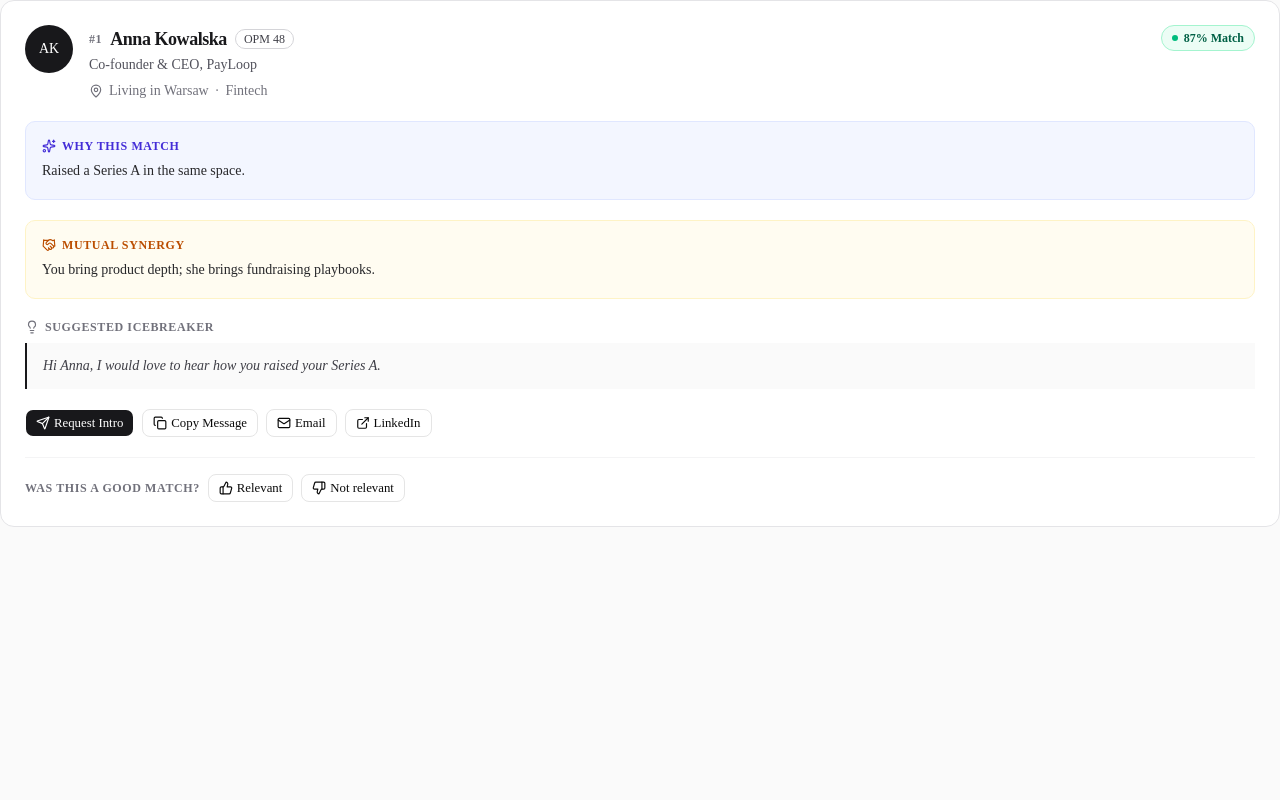
Test case: MatchCard › feedback › asks for a reason on a thumbs down and sends reason and comment
The image size is (1280, 800).
Click the button "Not relevant": (353, 488) [301,474,405,502]
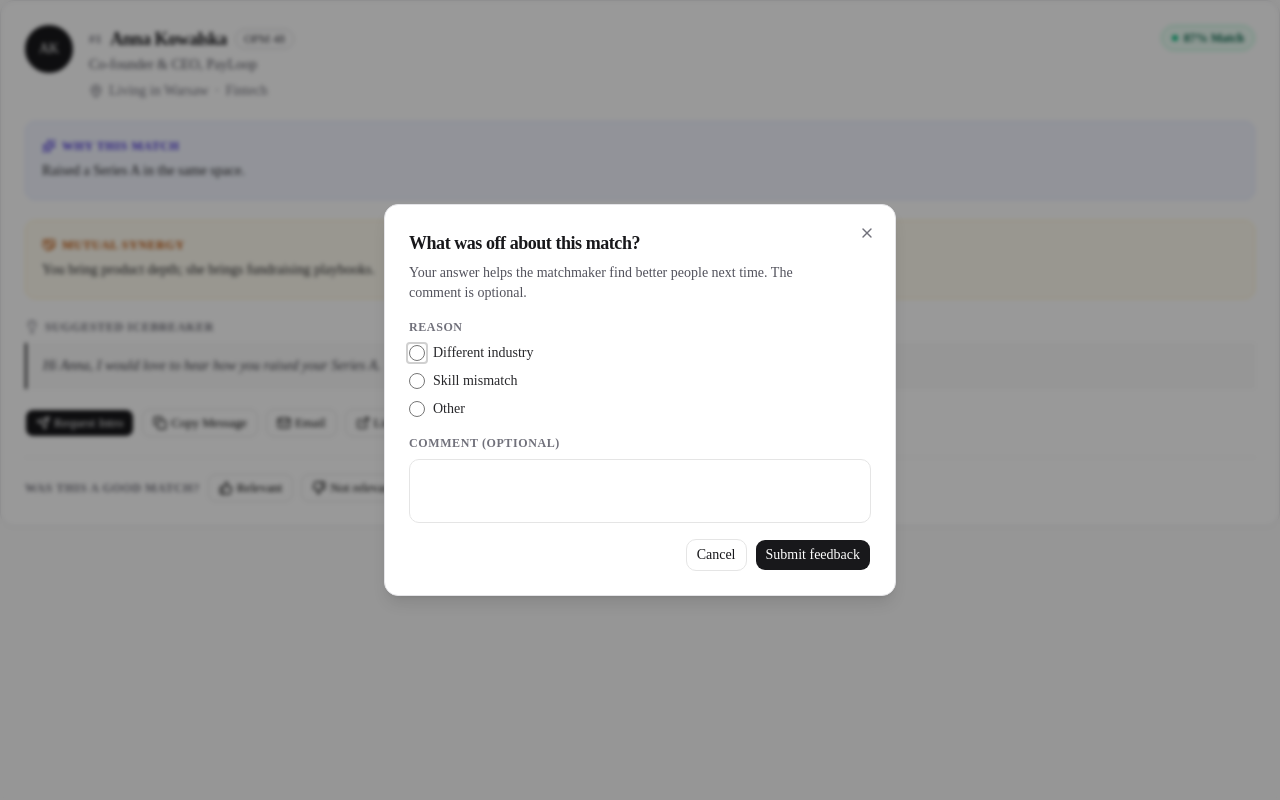
Click the radio button labelled "Skill mismatch": (417, 381) [409,373,425,389]
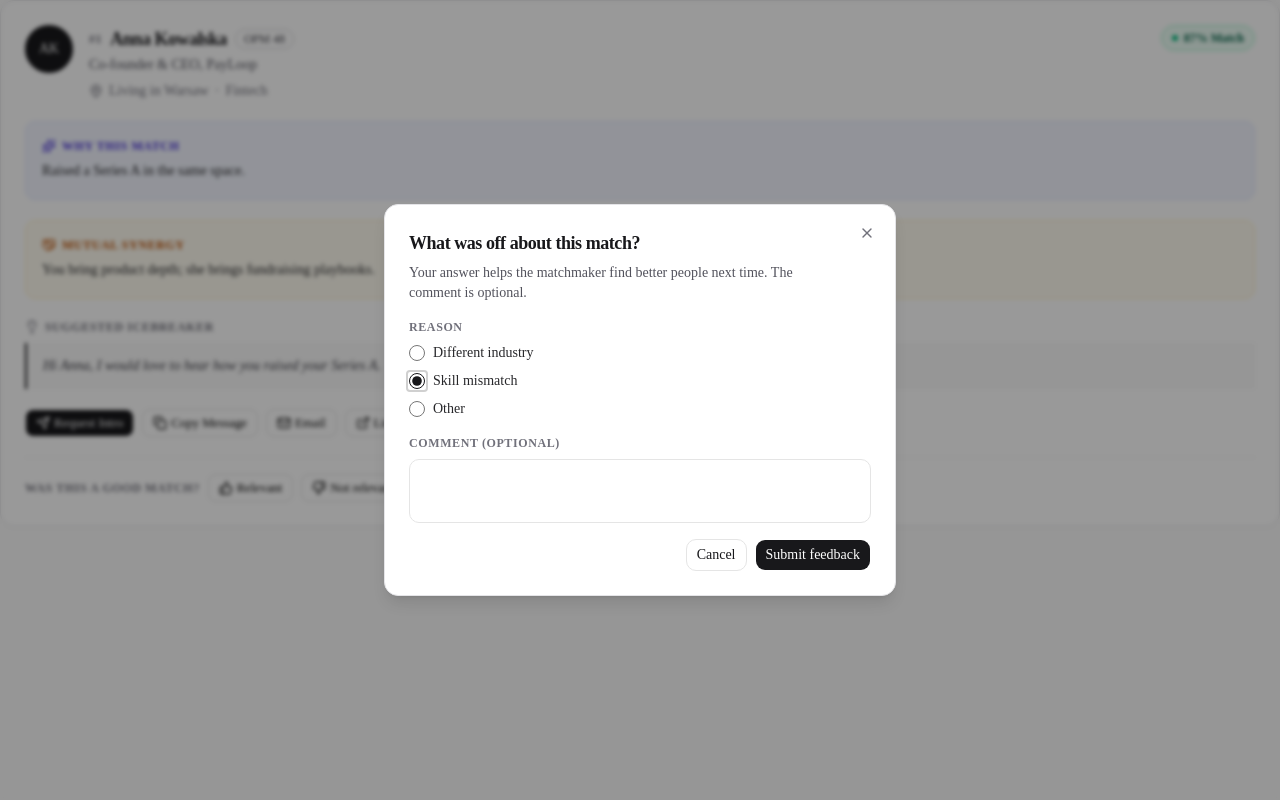
In the text box labelled "Comment (optional)": (640, 491) [409,459,871,523], type "  No fundraising background "
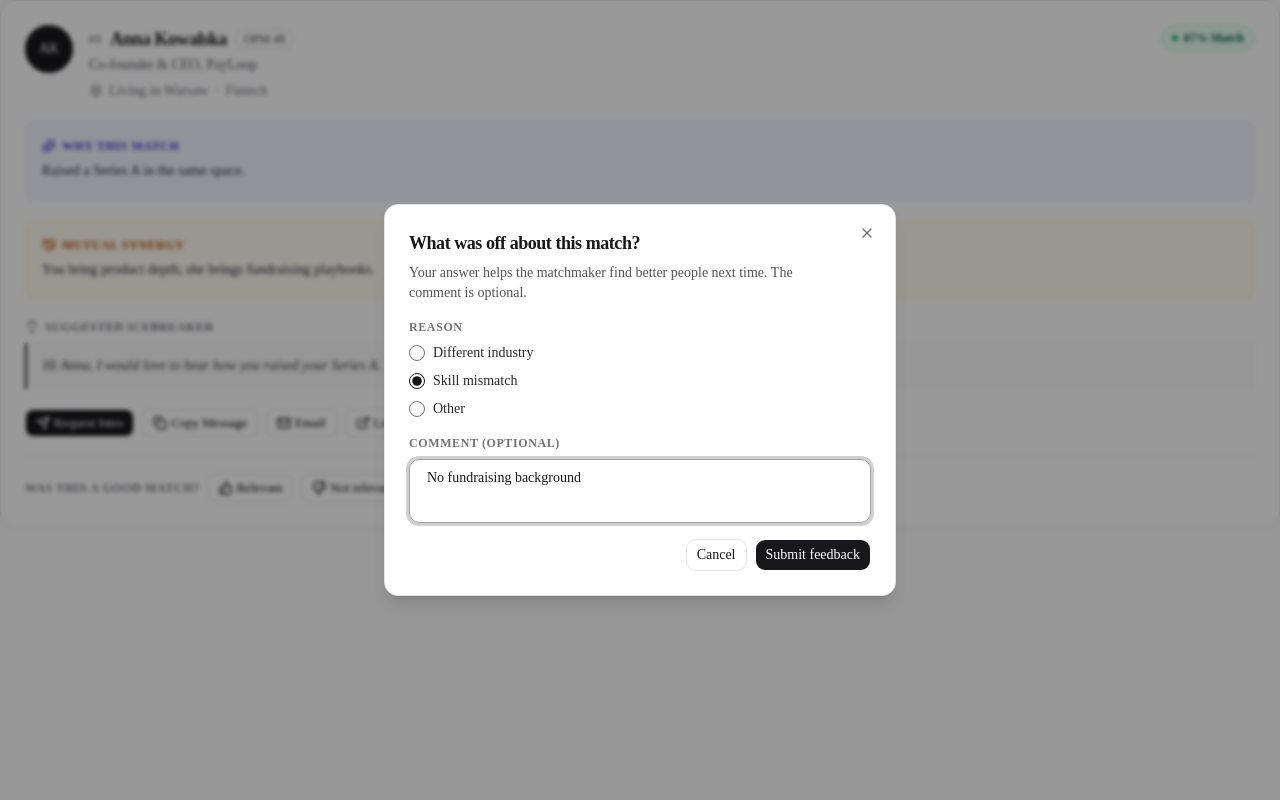
Click the button "Submit feedback": (813, 555) [754,539,871,571]
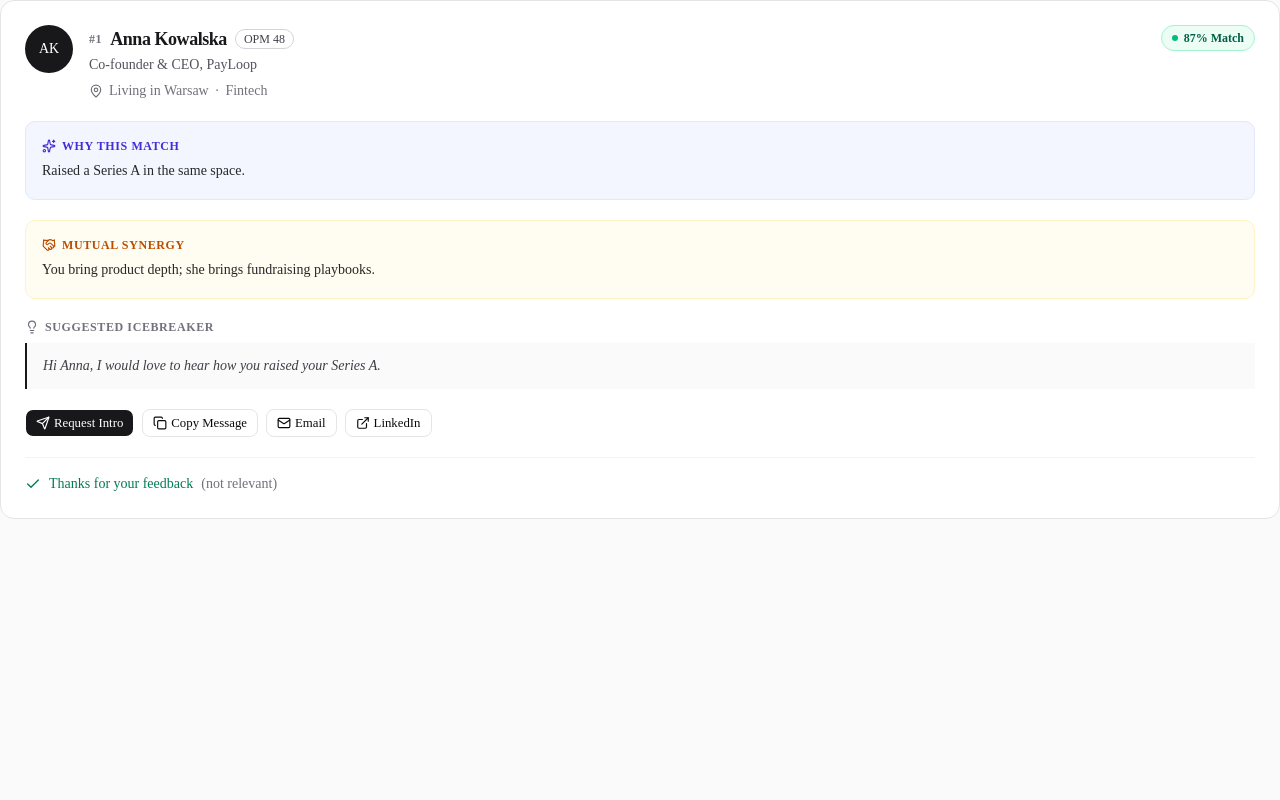
Expected: the message shows "Thanks for your feedback", [49,476,193,491]
Expected: the dialog is gone
